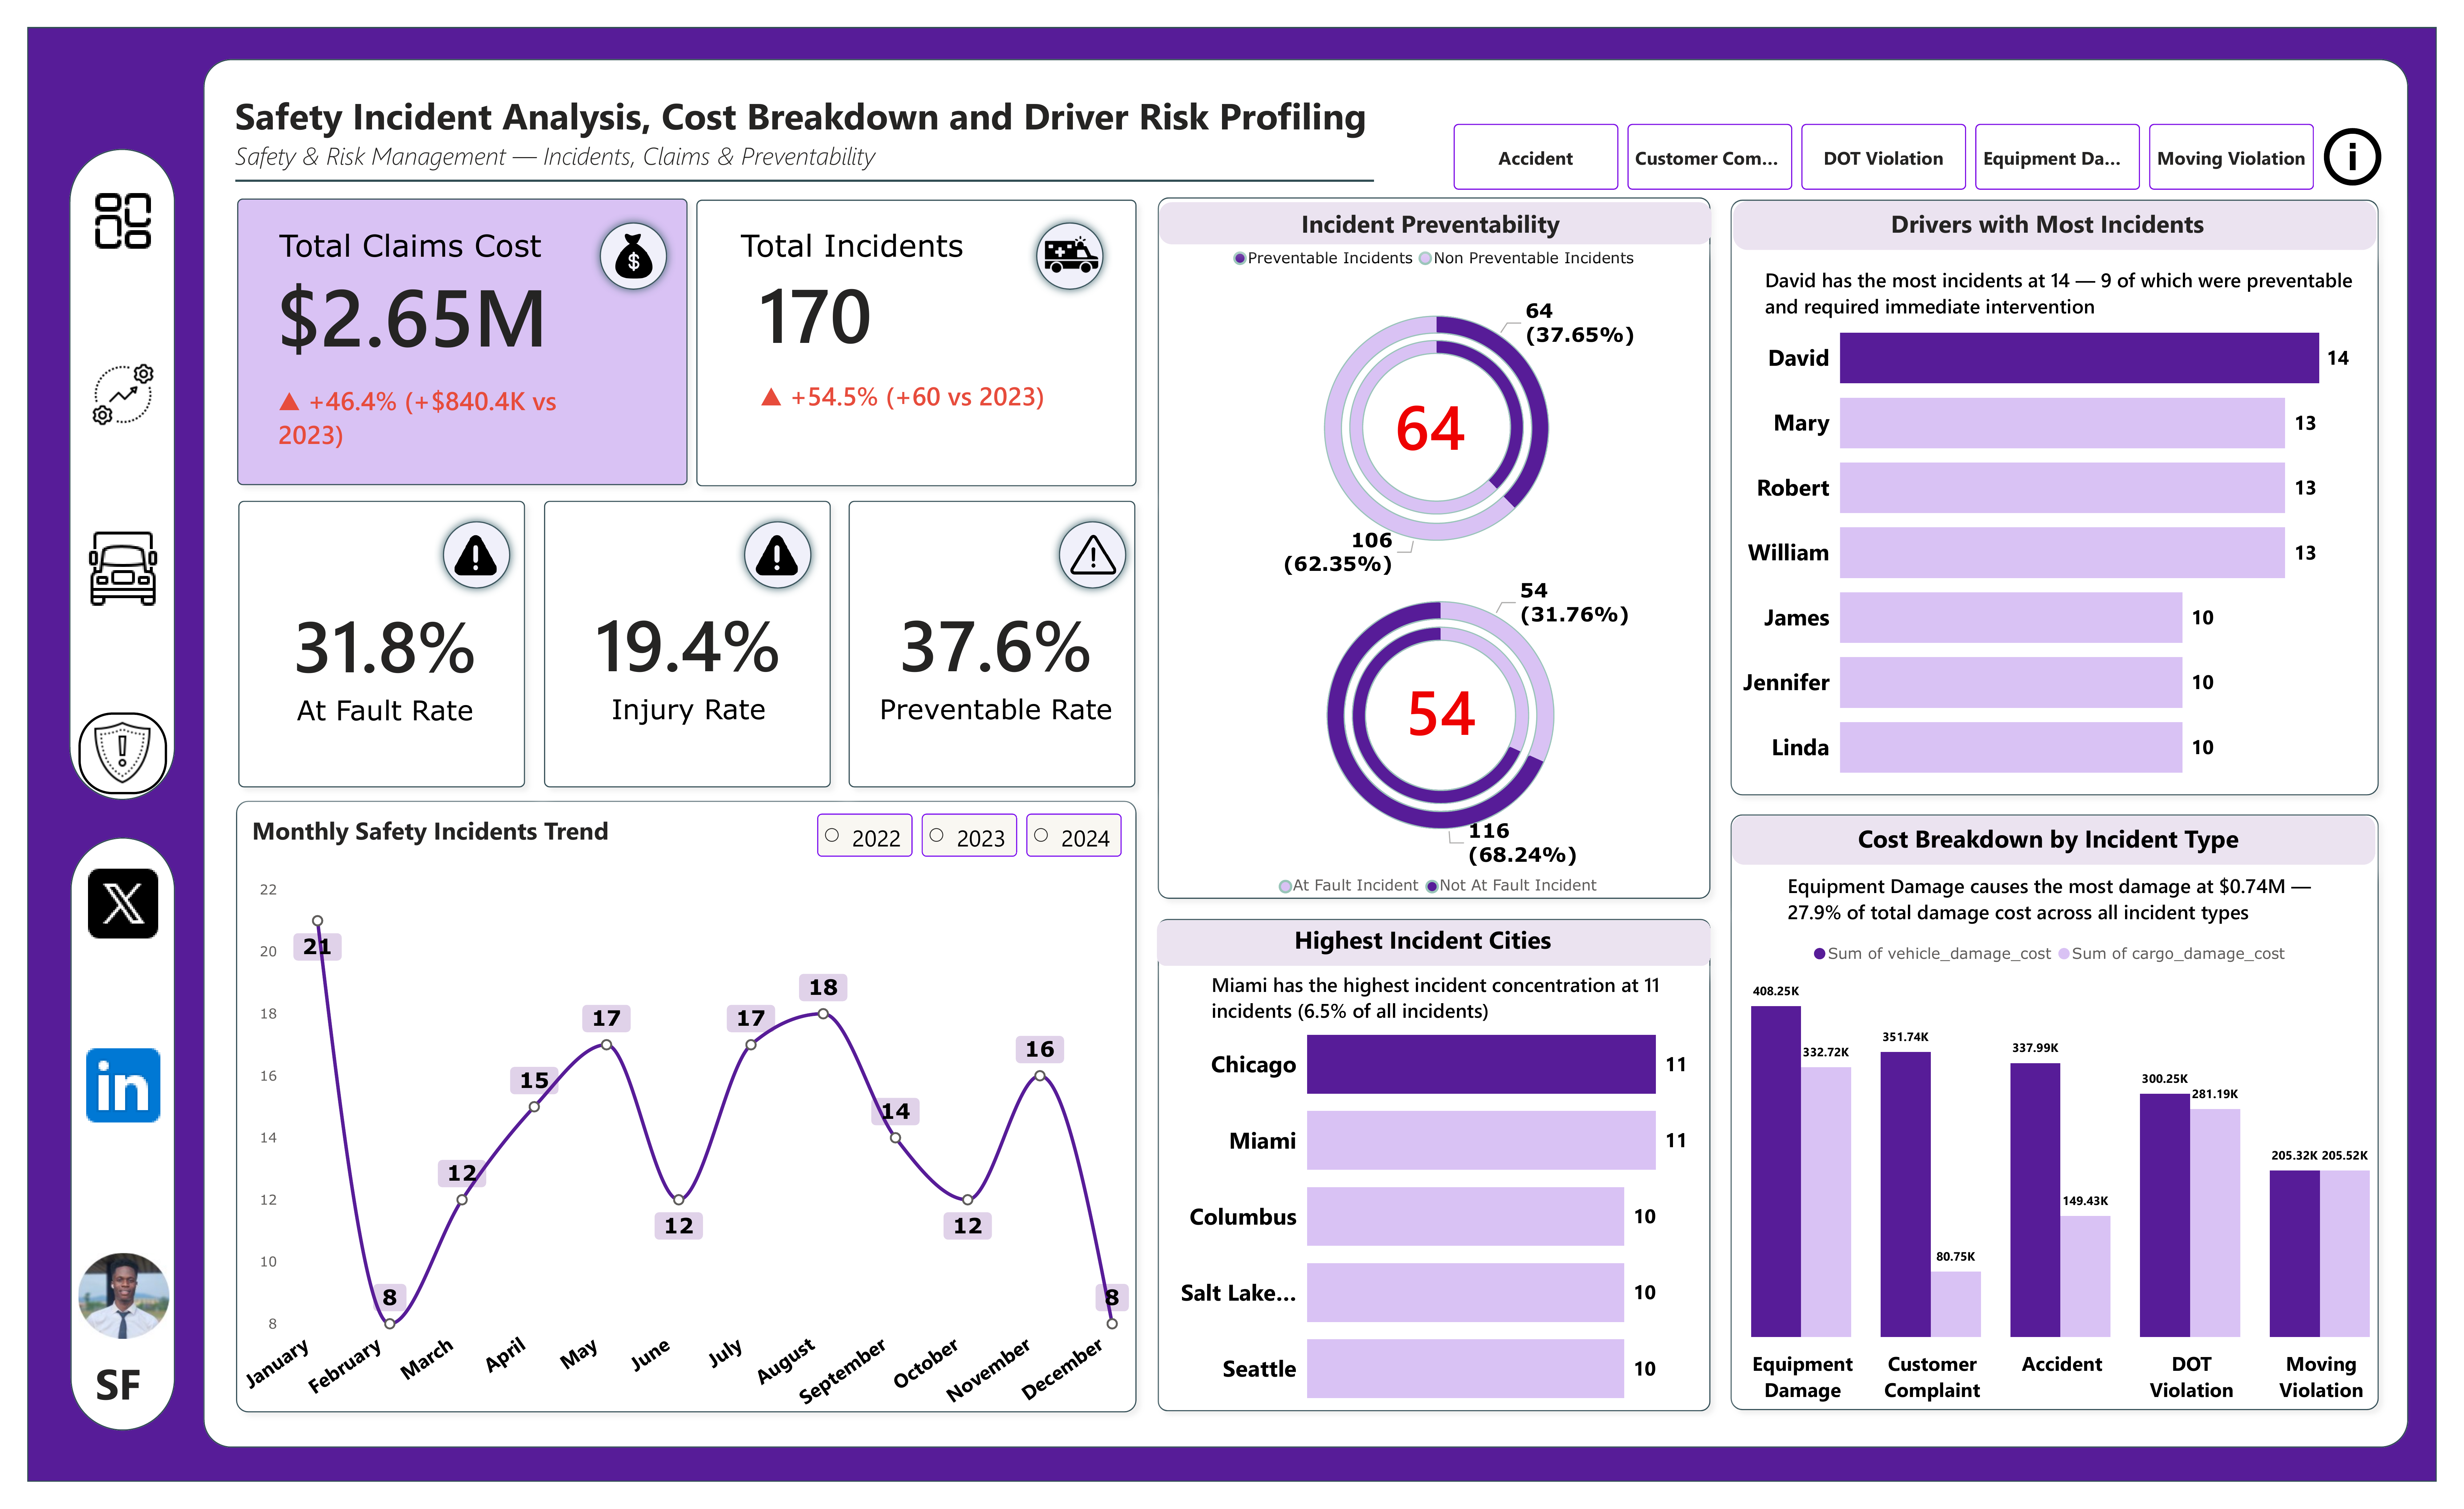

The page's visual inventory and layout, read from the dashboard file:
{"tool":"powerbi","page":{"name":"Safety","canvas":[2120,1280],"ordinal":3},"visuals":[{"type":"shape","box":[0,0,2120,1280],"z":0},{"type":"shape","box":[155,27.5,1940,1222.5],"z":1000},{"type":"shape","box":[1490,142.5,587.5,542.5],"z":2000},{"type":"shape","box":[1490,683.8,587.5,542.5],"z":3000},{"type":"shape","box":[985.7,141.4,504.3,634.3],"z":4000},{"type":"shape","box":[985.7,775.7,504.3,451.4],"z":5000},{"type":"shape","box":[175,671.7,810,556.7],"z":6000},{"type":"shape","box":[175.6,142.2,414.4,270],"z":7000},{"type":"shape","box":[176.7,408.3,270,270],"z":8000},{"type":"barChart","fields":{"Category":["drivers.first_name"],"Y":["Analysis.Total Incidents"]},"box":[1502.5,232.5,545,452.5],"z":9000},{"type":"clusteredColumnChart","fields":{"Category":["safety_incidents.incident_type"],"Y":["Sum(safety_incidents.vehicle_damage_cost)","Sum(safety_incidents.cargo_damage_cost)"]},"box":[1447.5,795,667.5,422.5],"z":10000},{"type":"clusteredBarChart","fields":{"Category":["safety_incidents.location_city"],"Y":["Analysis.Total Incidents"]},"box":[995.7,847.1,470,392.9],"z":11000},{"type":"lineChart","fields":{"Y":["Analysis.Total Incidents"],"Category":["safety_incidents.Incident date.Variation.Date Hierarchy.Month"]},"box":[180,745,805,490],"z":12000},{"type":"cardVisual","fields":{"Data":["Analysis.Total Claims Cost"]},"box":[190,185,360,228.3],"z":13000},{"type":"cardVisual","fields":{"Data":["Analysis.At Fault Rate"]},"box":[190,458.3,250,198.3],"z":14000},{"type":"shape","box":[580,142.5,405,270],"z":15000},{"type":"cardVisual","fields":{"Data":["Analysis.Total Incidents"]},"box":[615,185,335,221.7],"z":16000},{"type":"shape","box":[446,408.3,270,270],"z":17000},{"type":"shape","box":[714,408.3,270,270],"z":18000},{"type":"cardVisual","fields":{"Data":["Analysis.Injury Rate"]},"box":[446.7,455,270,203.3],"z":19000},{"type":"cardVisual","fields":{"Data":["Analysis.Preventable Rate"]},"box":[720,485,265,142.5],"z":20000},{"type":"donutChart","fields":{"Y":["Analysis.Preventable Incidents","Analysis.Non Preventable Incidents"]},"box":[1045,182.7,390,311.2],"z":21000},{"type":"donutChart","fields":{"Y":["Analysis.Preventable Incidents","Analysis.Non Preventable Incidents"]},"box":[1103.3,251.1,273.3,201.7],"z":22000},{"type":"shape","box":[36.7,106.7,93.3,573.3],"z":23000},{"type":"shape","box":[37.5,712.5,92.5,522.5],"z":24000},{"type":"textbox","box":[216.7,170,258.3,43.3],"z":25000},{"type":"textbox","box":[622.5,170,257.5,42.5],"z":26000},{"type":"donutChart","fields":{"Y":["Analysis.At Fault Incident","Analysis.Not At Fault Incident"]},"box":[1036.3,465,415,310],"z":27000},{"type":"donutChart","fields":{"Y":["Analysis.At Fault Incident","Analysis.Not At Fault Incident"]},"box":[1141.3,483.3,205,245],"z":28000},{"type":"cardVisual","fields":{"Data":["Analysis.Preventable Incidents"]},"box":[1168.3,281.6,132.7,132.7],"z":29000},{"type":"cardVisual","fields":{"Data":["Analysis.At Fault Incident"]},"box":[1167.5,540,152.5,117.5],"z":30000},{"type":"shape","box":[496.2,163.8,75,75],"z":31000},{"type":"shape","box":[880,163.8,75,75],"z":32000},{"type":"image","box":[895,145,47.5,110],"z":33000},{"type":"shape","box":[358,427,75,75],"z":34000},{"type":"image","box":[376.2,438.8,36.2,51.2],"z":35000},{"type":"shape","box":[623,427,75,75],"z":36000},{"type":"shape","box":[900,427,75,75],"z":37000},{"type":"image","box":[641.2,438.8,36.2,51.2],"z":38000},{"type":"image","box":[906.2,443.8,63.8,40],"z":39000},{"type":"image","box":[514.3,140,38.6,122.9],"z":40000},{"type":"cardVisual","fields":{"Data":["Callout Measures.Damage Cost Insight"]},"box":[1520,701.7,545,126.7],"z":41000},{"type":"cardVisual","fields":{"Data":["Callout Measures.City Incident Insight"]},"box":[1012.5,787.5,470,127.5],"z":42000},{"type":"cardVisual","fields":{"Data":["Callout Measures.Driver Incident Insight"]},"box":[1500,171.7,603.3,120],"z":43000},{"type":"textbox","box":[193.3,686.7,326.7,50],"z":44000},{"type":"advancedSlicerVisual","fields":{"Values":["safety_incidents.Incident date.Variation.Date Hierarchy.Year"]},"box":[690,686.7,280,48.3],"z":45000},{"type":"image","box":[45,1030,80,172.5],"z":46000},{"type":"advancedSlicerVisual","fields":{"Values":["safety_incidents.incident_type"]},"box":[1250,80,770,67.5],"z":47000},{"type":"textbox","box":[55.3,1162.7,68,64.7],"z":48000},{"type":"textbox","box":[177.5,50,1080,65],"z":49000},{"type":"textbox","box":[177.5,92.5,742.5,45],"z":50000},{"type":"shape","box":[182.5,105,1002.5,60],"z":51000},{"type":"image","box":[30.3,137.5,107.5,65],"z":52000},{"type":"image","box":[45.3,602.5,77.5,72.5],"z":53000},{"type":"image","box":[47.8,444.2,72.5,65],"z":54000},{"type":"image","box":[39.1,295.8,90,55],"z":55000},{"type":"shape","box":[1501.4,152.9,565.7,42.9],"z":56000},{"type":"textbox","box":[1635,152.5,327.5,50],"z":57000},{"type":"shape","box":[1500,694.3,565.7,42.9],"z":58000},{"type":"textbox","box":[1605.6,694.4,384.4,47.8],"z":59000},{"type":"shape","box":[994.3,785.7,487.1,40],"z":60000},{"type":"textbox","box":[1110,782.9,247.1,42.9],"z":61000},{"type":"shape","box":[996.1,153.6,486.4,37.2],"z":62000},{"type":"textbox","box":[1116.2,152.5,247.5,42.5],"z":63000},{"type":"image","box":[7.5,887.5,152.5,87.5],"z":64000},{"type":"image","box":[38.8,735,90,72.5],"z":65000},{"type":"actionButton","box":[2015,82.5,75,62.5],"z":66000}]}

Visuals, with their boxes on the page's 2120x1280 design canvas (x1, y1, x2, y2). These are canvas units, not pixel positions in the 2464x1509 screenshot, which may show the page scaled, cropped or inside an application window:
shape: [0, 0, 2120, 1280]
shape: [155, 28, 2095, 1250]
shape: [1490, 142, 2078, 685]
shape: [1490, 684, 2078, 1226]
shape: [986, 141, 1490, 776]
shape: [986, 776, 1490, 1227]
shape: [175, 672, 985, 1228]
shape: [176, 142, 590, 412]
shape: [177, 408, 447, 678]
barChart - drivers.first_name x Analysis.Total Incidents: [1502, 232, 2048, 685]
clusteredColumnChart - safety_incidents.incident_type x Sum(safety_incidents.vehicle_damage_cost): [1448, 795, 2115, 1218]
clusteredBarChart - safety_incidents.location_city x Analysis.Total Incidents: [996, 847, 1466, 1240]
lineChart - Analysis.Total Incidents x safety_incidents.Incident date.Variation.Date Hierarchy.Month: [180, 745, 985, 1235]
cardVisual - Analysis.Total Claims Cost: [190, 185, 550, 413]
cardVisual - Analysis.At Fault Rate: [190, 458, 440, 657]
shape: [580, 142, 985, 412]
cardVisual - Analysis.Total Incidents: [615, 185, 950, 407]
shape: [446, 408, 716, 678]
shape: [714, 408, 984, 678]
cardVisual - Analysis.Injury Rate: [447, 455, 717, 658]
cardVisual - Analysis.Preventable Rate: [720, 485, 985, 628]
donutChart - Analysis.Preventable Incidents x Analysis.Non Preventable Incidents: [1045, 183, 1435, 494]
donutChart - Analysis.Preventable Incidents x Analysis.Non Preventable Incidents: [1103, 251, 1377, 453]
shape: [37, 107, 130, 680]
shape: [38, 712, 130, 1235]
textbox: [217, 170, 475, 213]
textbox: [622, 170, 880, 212]
donutChart - Analysis.At Fault Incident x Analysis.Not At Fault Incident: [1036, 465, 1451, 775]
donutChart - Analysis.At Fault Incident x Analysis.Not At Fault Incident: [1141, 483, 1346, 728]
cardVisual - Analysis.Preventable Incidents: [1168, 282, 1301, 414]
cardVisual - Analysis.At Fault Incident: [1168, 540, 1320, 658]
shape: [496, 164, 571, 239]
shape: [880, 164, 955, 239]
image: [895, 145, 942, 255]
shape: [358, 427, 433, 502]
image: [376, 439, 412, 490]
shape: [623, 427, 698, 502]
shape: [900, 427, 975, 502]
image: [641, 439, 677, 490]
image: [906, 444, 970, 484]
image: [514, 140, 553, 263]
cardVisual - Callout Measures.Damage Cost Insight: [1520, 702, 2065, 828]
cardVisual - Callout Measures.City Incident Insight: [1012, 788, 1482, 915]
cardVisual - Callout Measures.Driver Incident Insight: [1500, 172, 2103, 292]
textbox: [193, 687, 520, 737]
advancedSlicerVisual - safety_incidents.Incident date.Variation.Date Hierarchy.Year: [690, 687, 970, 735]
image: [45, 1030, 125, 1202]
advancedSlicerVisual - safety_incidents.incident_type: [1250, 80, 2020, 148]
textbox: [55, 1163, 123, 1227]
textbox: [178, 50, 1258, 115]
textbox: [178, 92, 920, 138]
shape: [182, 105, 1185, 165]
image: [30, 138, 138, 202]
image: [45, 602, 123, 675]
image: [48, 444, 120, 509]
image: [39, 296, 129, 351]
shape: [1501, 153, 2067, 196]
textbox: [1635, 152, 1962, 202]
shape: [1500, 694, 2066, 737]
textbox: [1606, 694, 1990, 742]
shape: [994, 786, 1481, 826]
textbox: [1110, 783, 1357, 826]
shape: [996, 154, 1482, 191]
textbox: [1116, 152, 1364, 195]
image: [8, 888, 160, 975]
image: [39, 735, 129, 808]
actionButton: [2015, 82, 2090, 145]
